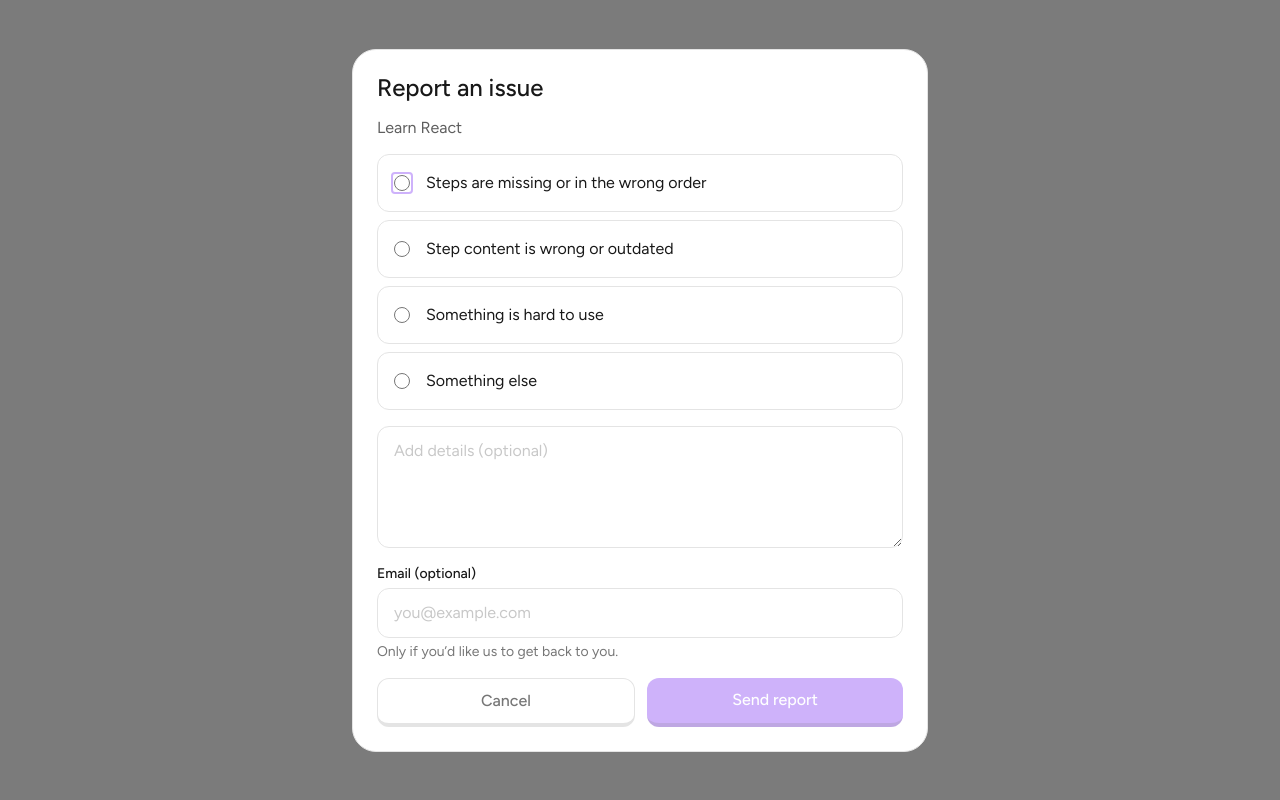
ReportIssueDialog › keeps Send disabled until a reason is chosen
Expected: the button "Send report" is disabled, [647,678,903,726]
Step 1. Click the radio button labelled "Step content is wrong or outdated" → (402, 248), box [394,240,410,256]
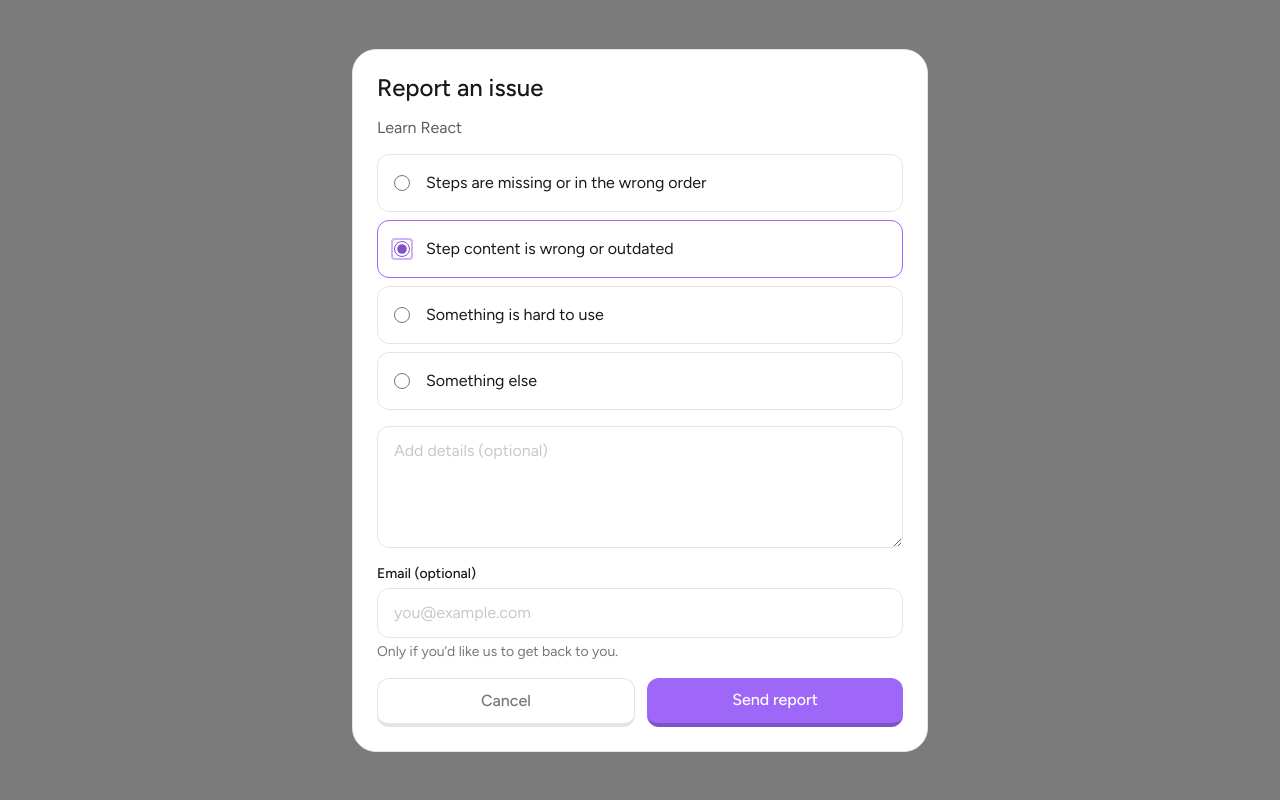
Expected: the button "Send report" is enabled, [647,678,903,726]
